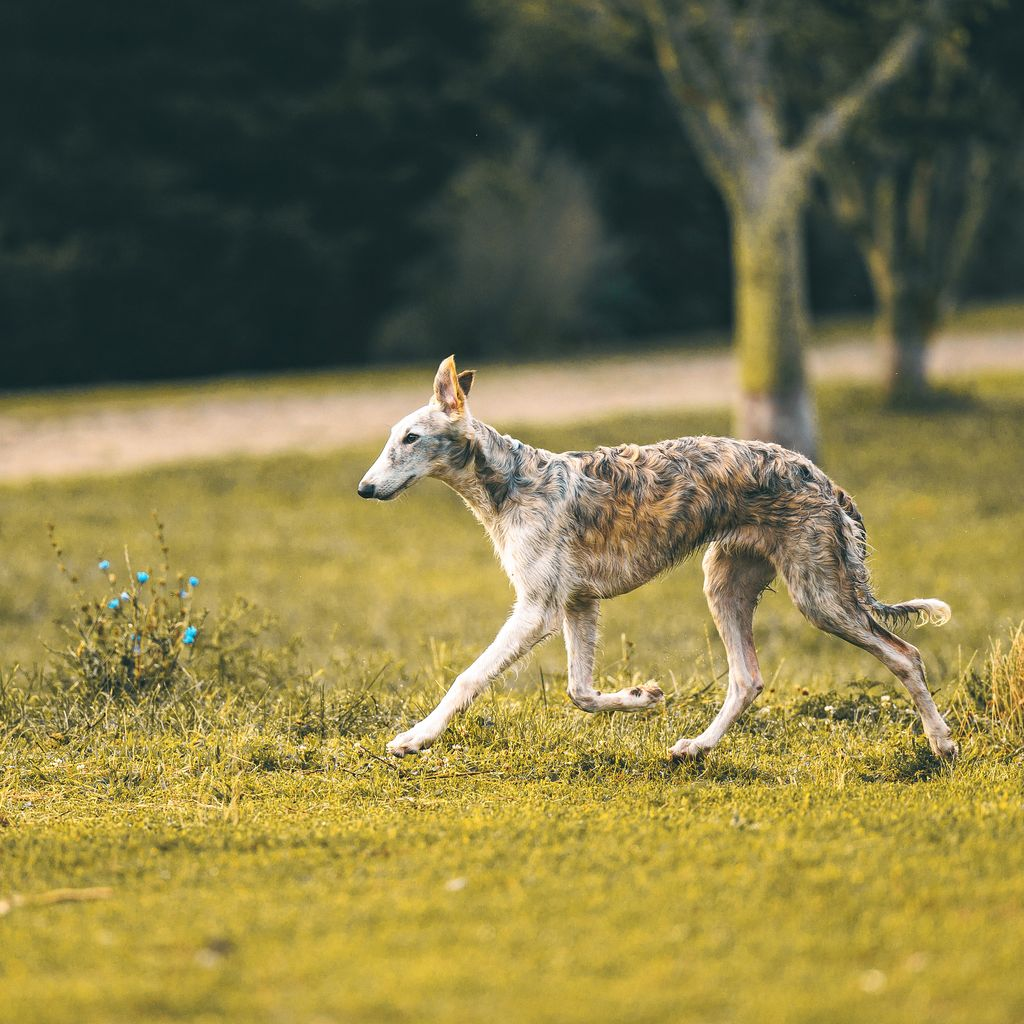borzoi: (321, 352, 990, 782)
